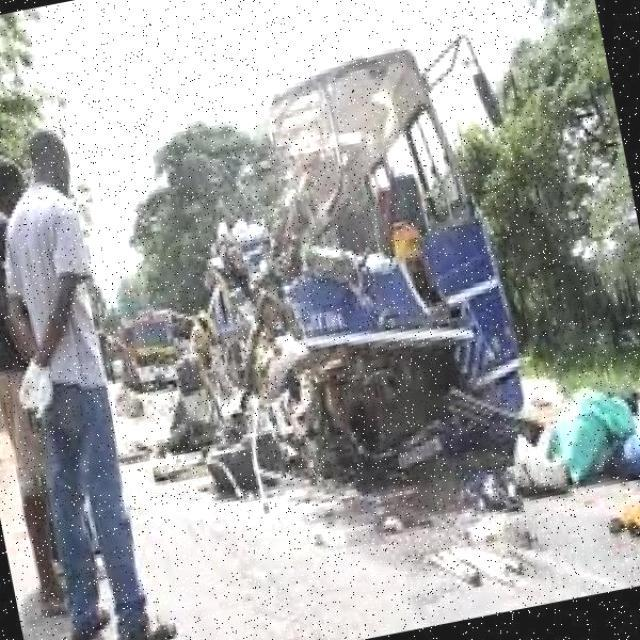accident: (127, 21, 564, 516)
